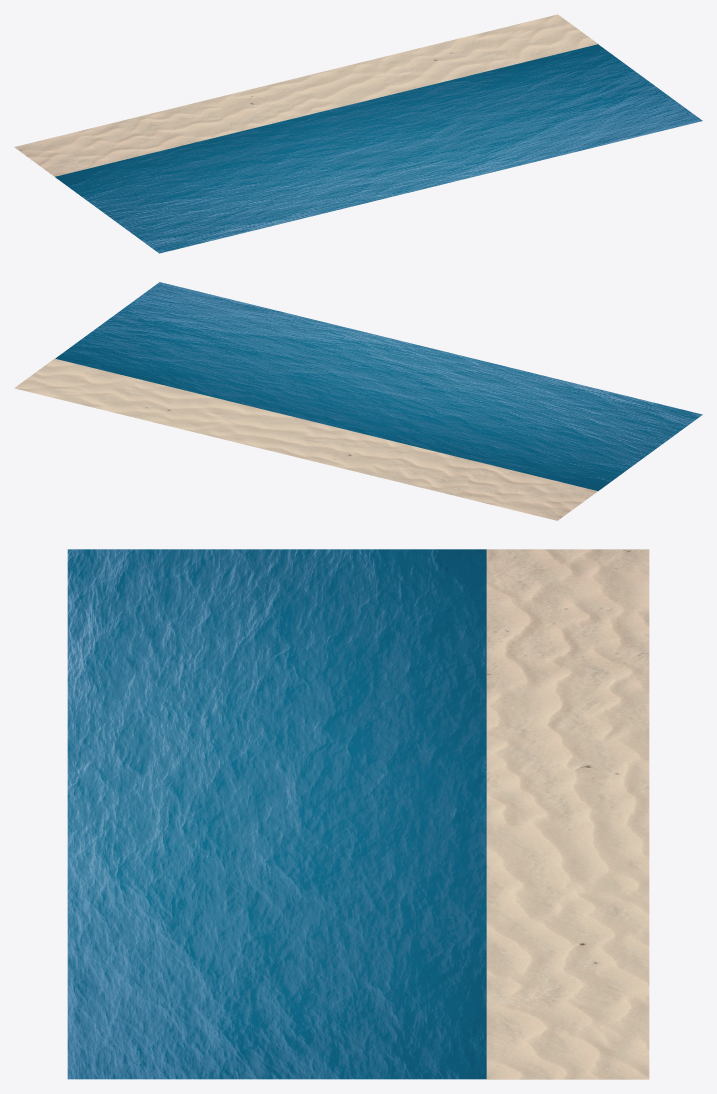
File: beachScene 1.fbx
3 views of the same model, one above another, from view 1: azimuth 30°, elevation 25°; view 2: azimuth 150°, elevation 25°; view 3: azimuth 270°, elevation 25° (orthographic). The views are drawn at different scales.
Parts seen in each view (by area): view 1: pCube8, pCube9; view 2: pCube8, pCube9; view 3: pCube8, pCube9.
Part boxes in pixels (x1=…): pCube8: x1=55, y1=44, x2=702, y2=253; pCube9: x1=14, y1=14, x2=598, y2=176; pCube8: x1=55, y1=282, x2=702, y2=490; pCube9: x1=14, y1=358, x2=597, y2=520; pCube8: x1=67, y1=549, x2=486, y2=1079; pCube9: x1=486, y1=549, x2=649, y2=1079.
Size of the model in its own units: 21592 by 1 by 10000.
Materials: 2 (2 with a texture image).
